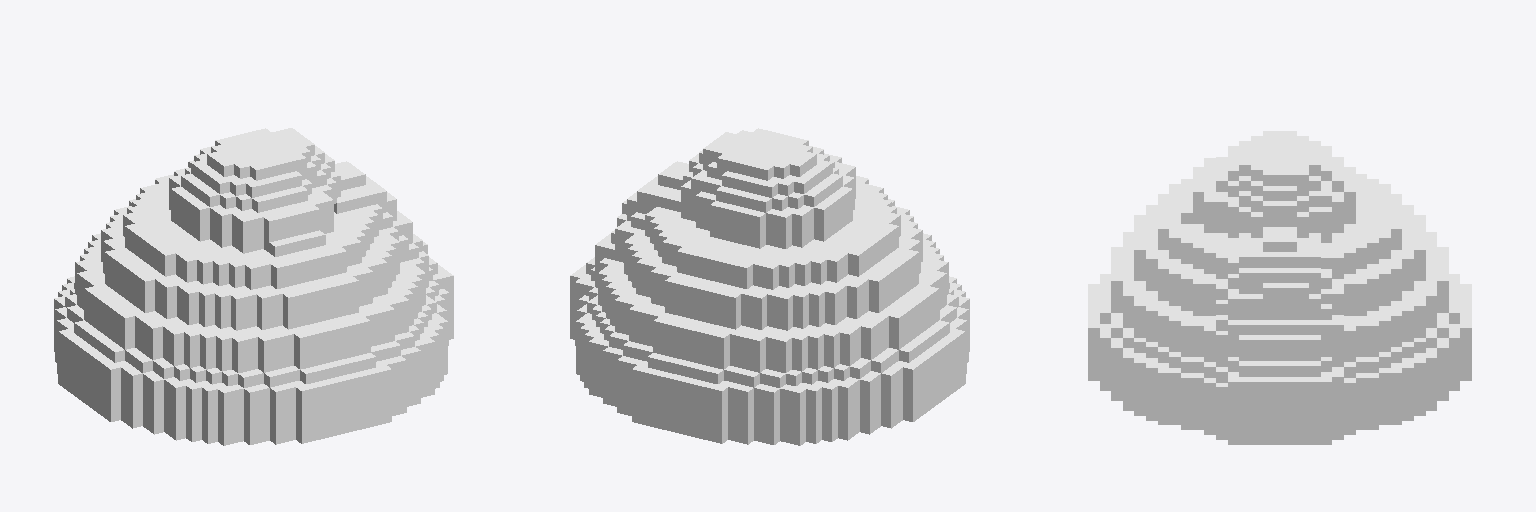
The model's file is wulkan.obj.
The picture shows the model from 3 angles: view 1: azimuth 30°, elevation 25°; view 2: azimuth 150°, elevation 25°; view 3: azimuth 270°, elevation 25°; orthographic projection.
Visible parts, largest first — view 1: object 1; view 2: object 1; view 3: object 1.
Boxes of the visible parts, <box> form: object 1: <box>54,128,453,445</box>; object 1: <box>570,128,969,445</box>; object 1: <box>1088,131,1471,444</box>.
Bounding box in the file's own units: 3.4 × 2 × 3.3.